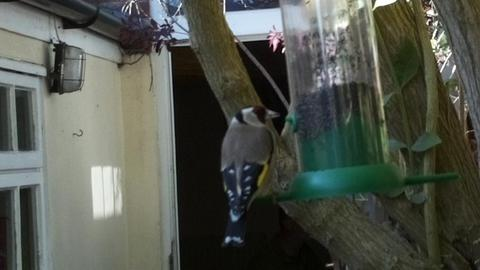goldfinch: (220, 104, 281, 247)
